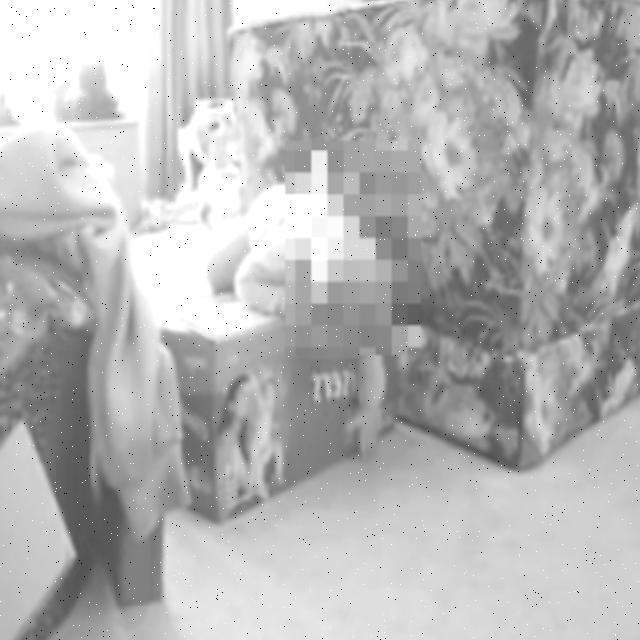child: (200, 178, 391, 461)
